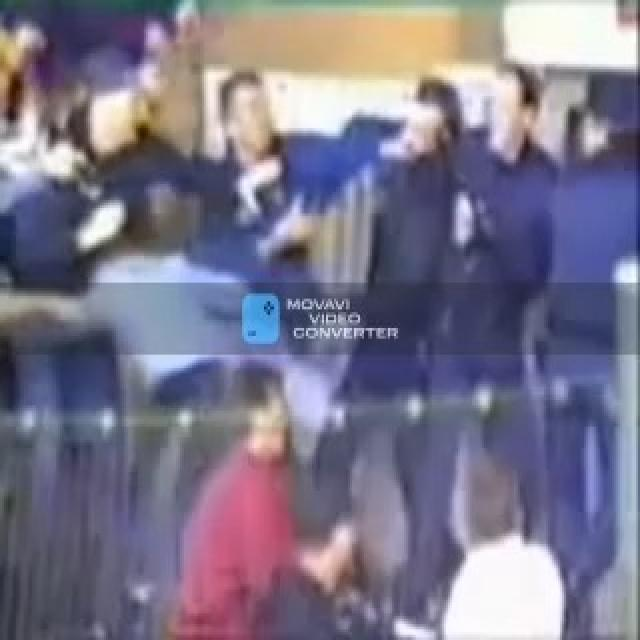non-voilence: (0, 0, 638, 637), (304, 62, 560, 638), (166, 358, 356, 638)
